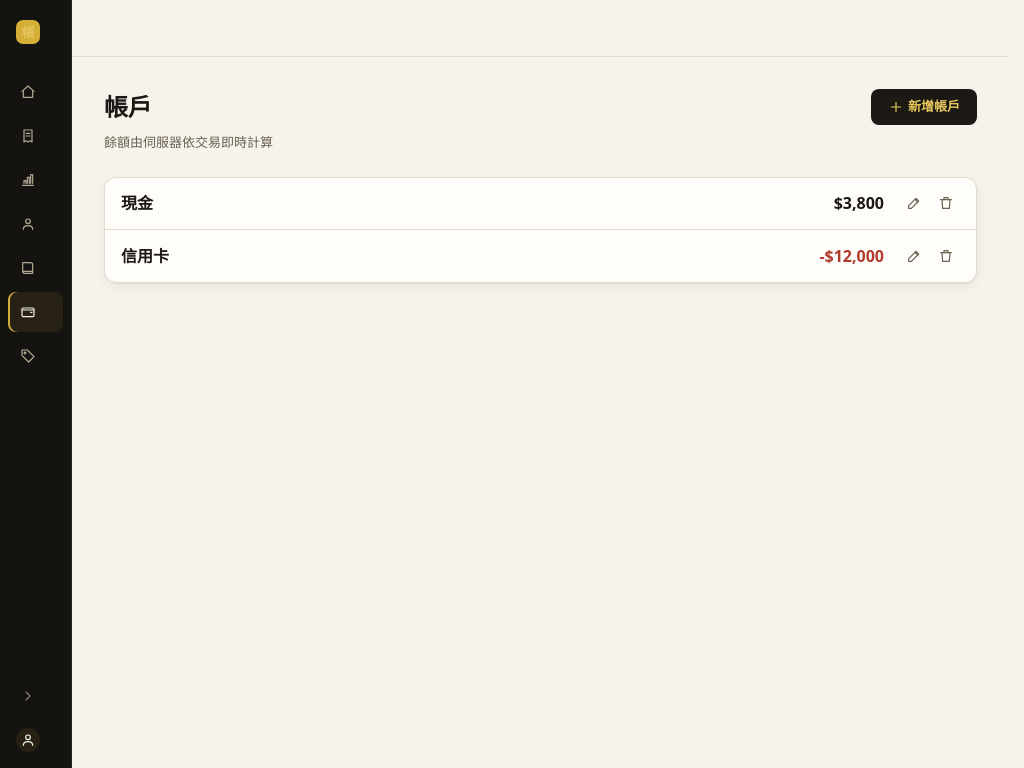
Test: Accounts page › renames without offering the initial balance
The image size is (1024, 768).
Click the button named "編輯現金" at (914, 203), box [900, 189, 928, 217]
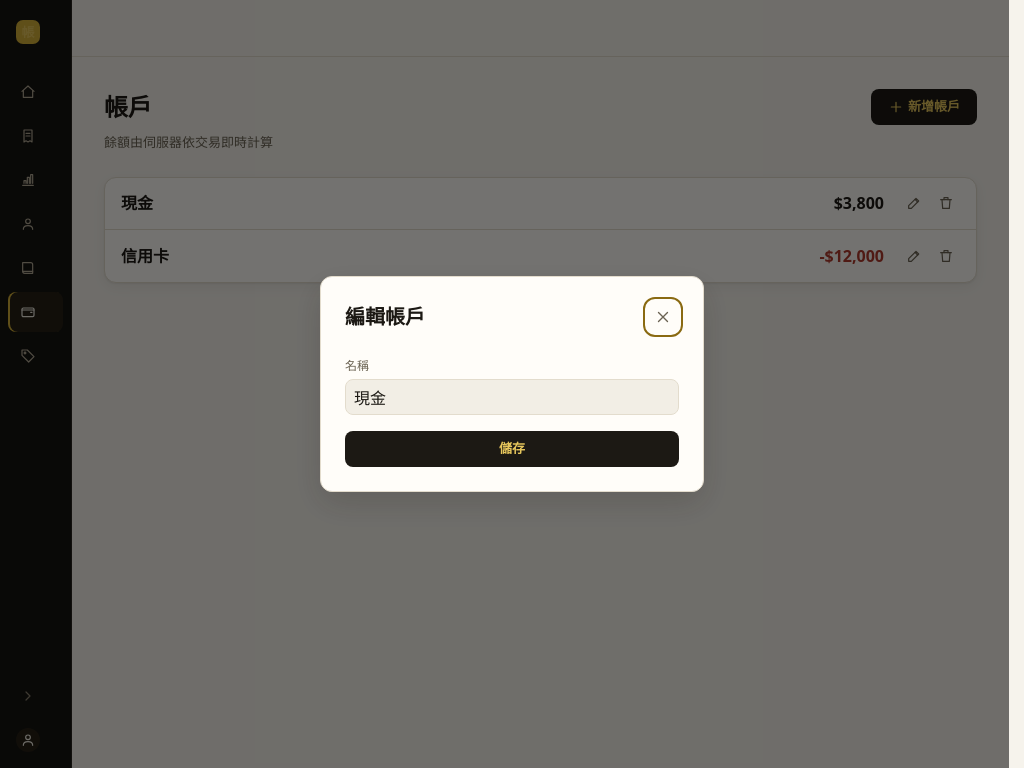
Replace the text in the field labelled "名稱" with "零錢包" at (512, 397), box [345, 379, 679, 415]
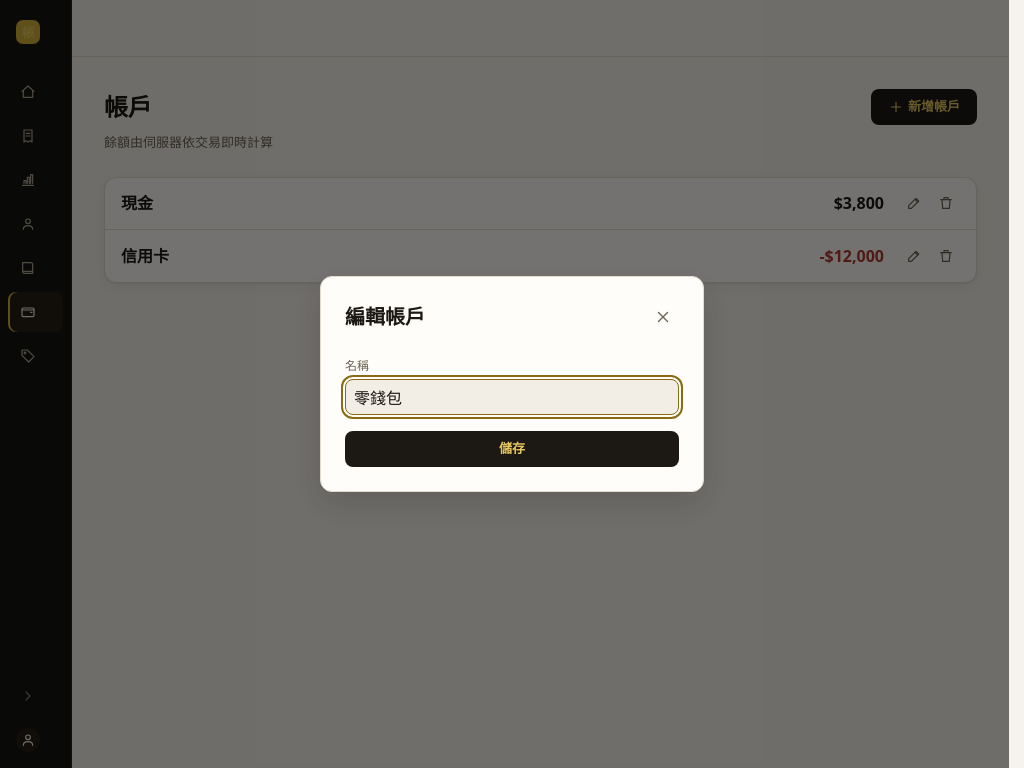
Click the button "儲存" at (512, 449), box [345, 431, 679, 467]
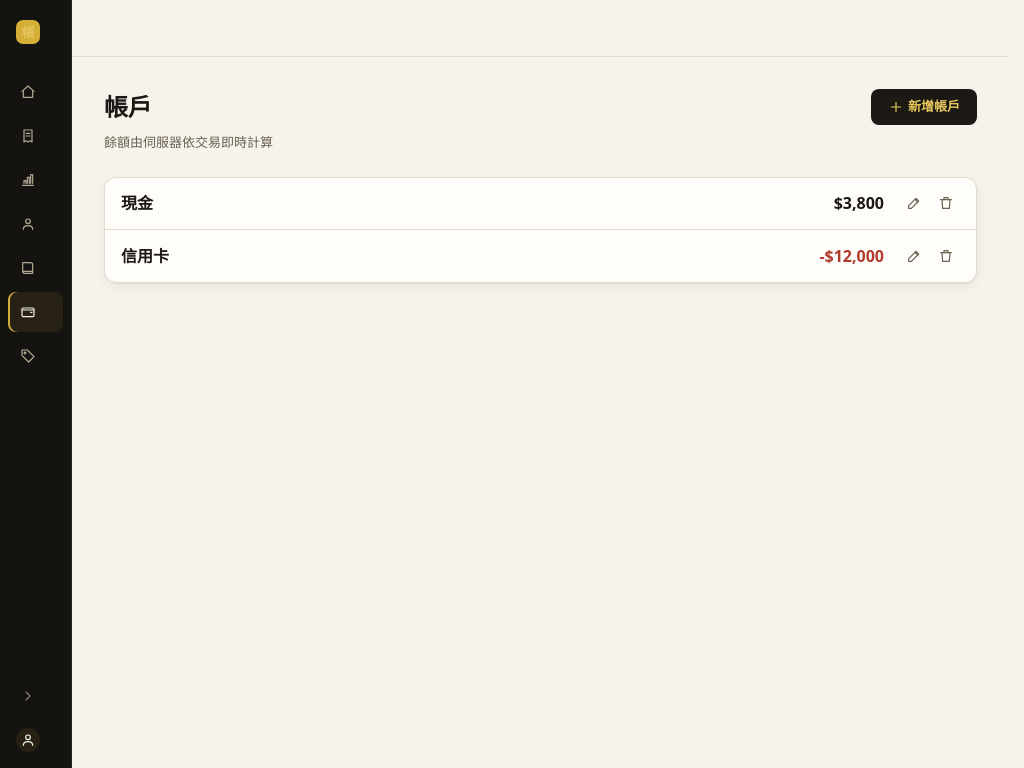
Expected: the dialog is gone
